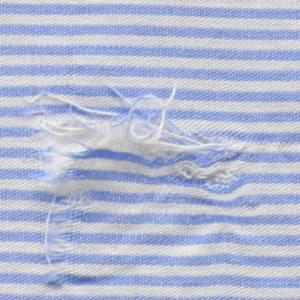Damage: (19, 77, 268, 291)
